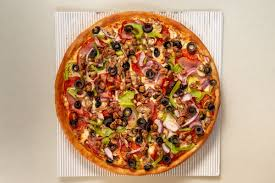pizza: (53, 11, 221, 173)
